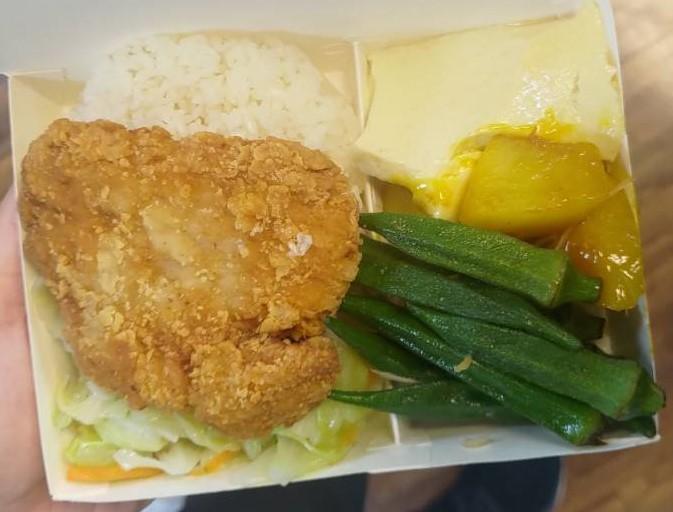big grilled chicken leg: (0, 2, 663, 498)
big herbal chicken leg: (61, 33, 355, 193)
braised fish fillet: (360, 218, 646, 446), (35, 307, 374, 486), (365, 8, 621, 181), (389, 140, 643, 307)
braised pork: (9, 122, 365, 434)
